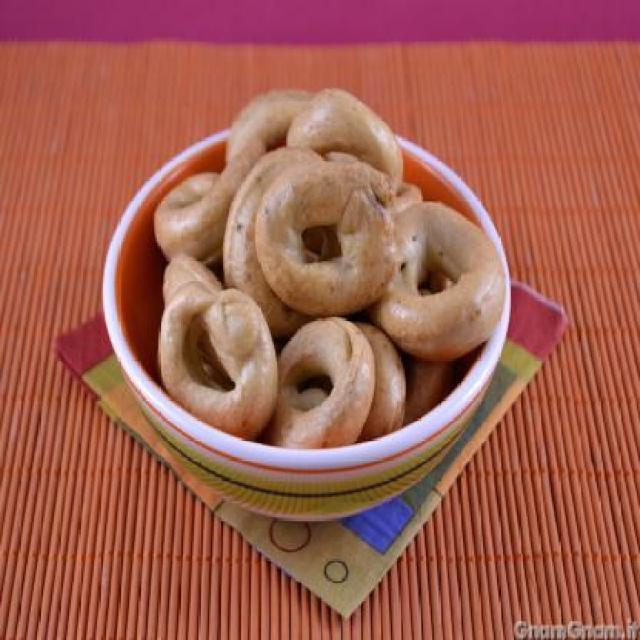Taralli: (149, 82, 506, 450)
